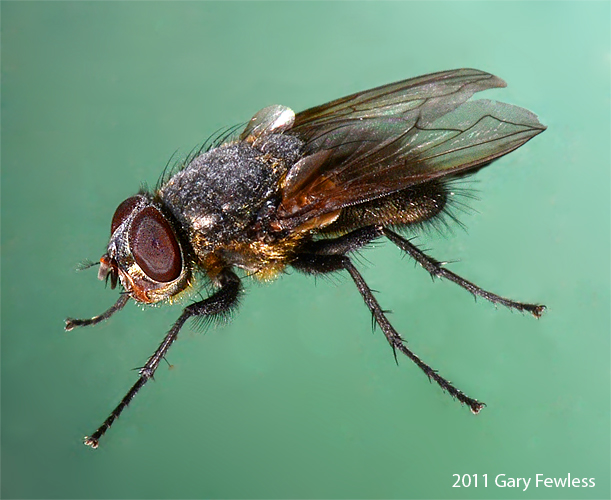house fly: (65, 60, 557, 466)
